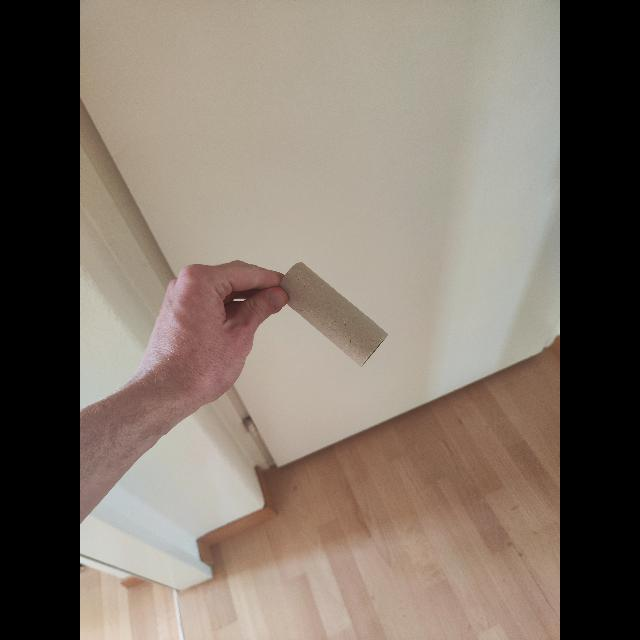Cardboard: (278, 264, 389, 370)
